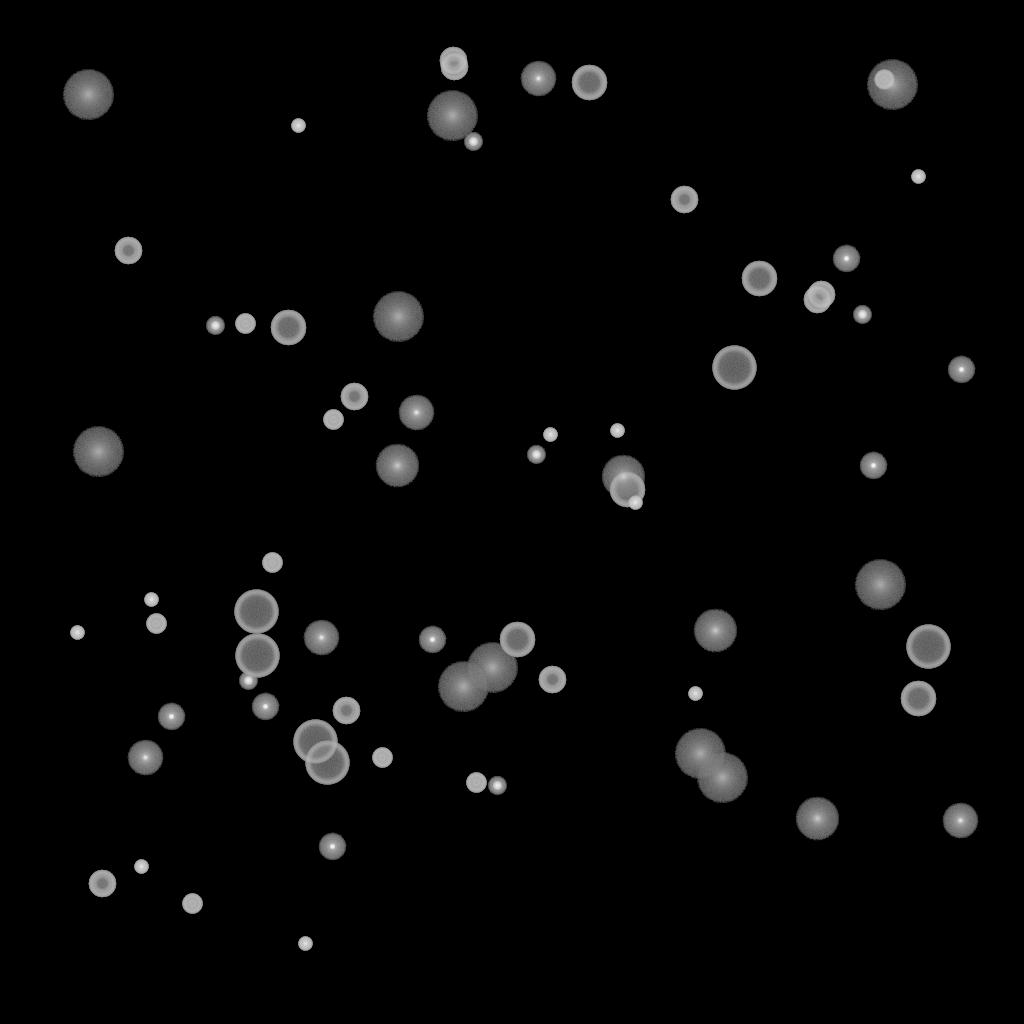depth:-10: (157, 703, 185, 731), (947, 356, 975, 384), (318, 833, 346, 861), (832, 245, 860, 273), (859, 452, 887, 480), (251, 693, 279, 721), (418, 626, 446, 654)
depth:-20: (527, 446, 545, 464), (853, 306, 871, 324), (488, 777, 506, 795), (464, 133, 482, 151), (239, 672, 257, 690), (206, 317, 224, 335)
depth:-30: (688, 687, 702, 701), (911, 170, 925, 184), (628, 496, 642, 510), (543, 428, 557, 442), (610, 424, 624, 438), (291, 119, 305, 133), (298, 937, 312, 951), (70, 626, 84, 640), (144, 593, 158, 607), (134, 860, 148, 874)
depth:-40: (466, 773, 486, 793), (146, 614, 166, 634), (262, 553, 282, 573), (235, 314, 255, 334), (874, 70, 894, 90), (372, 748, 392, 768), (323, 410, 343, 430), (182, 894, 202, 914)
depth:-50: (803, 286, 831, 314), (807, 281, 835, 309), (439, 47, 467, 75), (332, 697, 360, 725), (670, 186, 698, 214), (88, 870, 116, 898), (340, 383, 368, 411), (114, 237, 142, 265), (440, 53, 468, 81), (538, 666, 566, 694)
depth:-60: (499, 622, 535, 658), (900, 681, 936, 717), (270, 310, 306, 346), (609, 472, 645, 508), (571, 65, 607, 101), (741, 261, 777, 297)
depth:-70: (235, 634, 279, 678), (293, 720, 337, 764), (906, 625, 950, 669), (234, 590, 278, 634), (712, 346, 756, 390), (305, 741, 349, 785)
depth:0: (303, 620, 339, 656), (942, 803, 978, 839), (520, 61, 556, 97), (398, 395, 434, 431), (127, 740, 163, 776)
depth:10: (795, 797, 839, 841), (693, 609, 737, 653), (375, 444, 419, 488), (601, 455, 645, 499)
depth:20: (696, 753, 748, 803), (62, 70, 114, 120), (674, 729, 726, 779), (426, 91, 478, 141), (372, 292, 424, 342), (437, 662, 489, 712), (72, 427, 124, 477), (854, 560, 906, 610), (866, 60, 918, 110), (466, 643, 518, 693)
